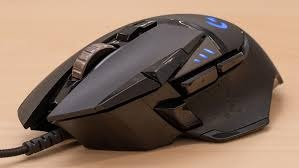mouse: (19, 9, 290, 158)
